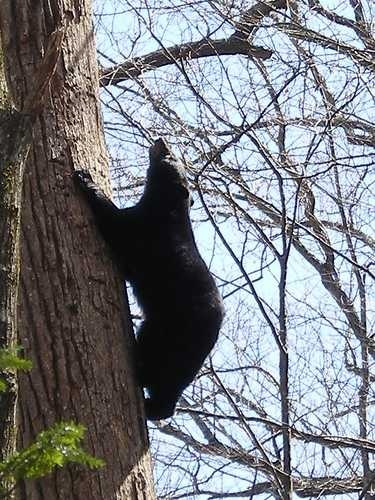bear: (68, 132, 196, 260)
